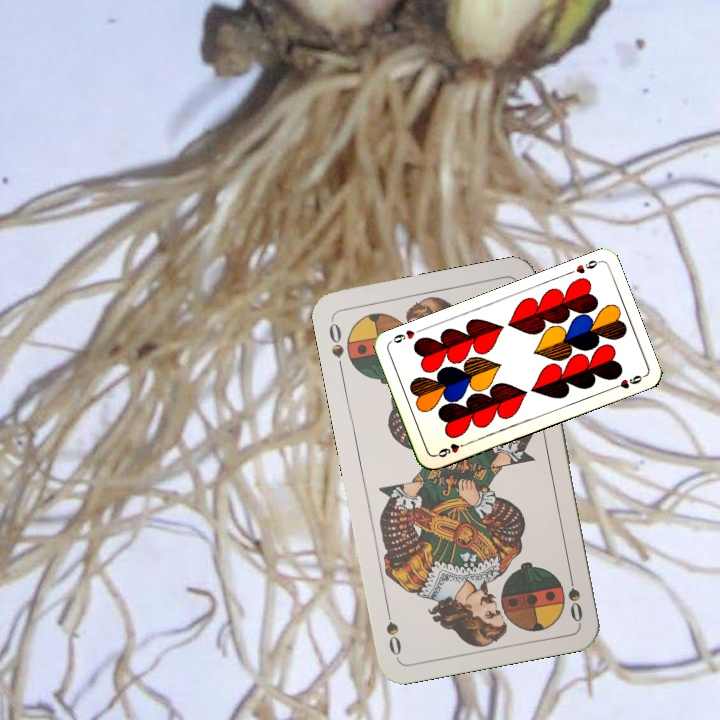H9: (431, 438, 470, 460), (572, 256, 602, 276)
SO: (563, 566, 585, 625), (325, 316, 347, 375)
